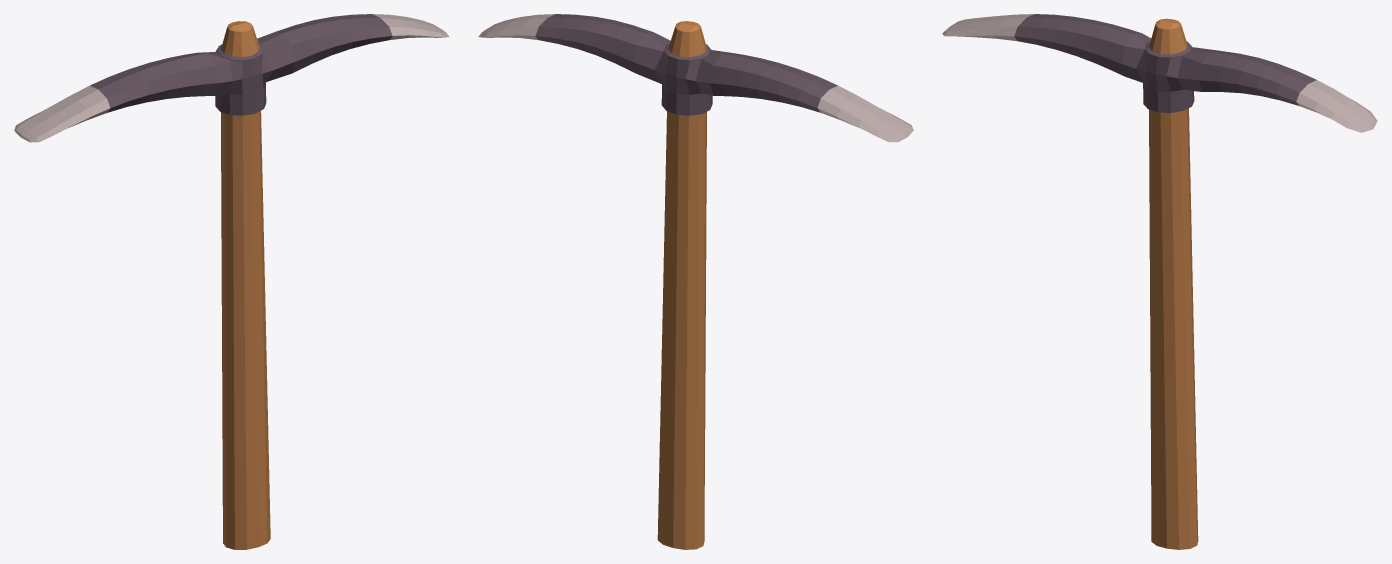
Rendered from pickaxe.fbx.
3 views of the same model, side by side, from view 1: azimuth 30°, elevation 25°; view 2: azimuth 150°, elevation 25°; view 3: azimuth 330°, elevation 25° (orthographic).
Parts seen in each view (by area): view 1: Cube; view 2: Cube; view 3: Cube.
Boxes of the visible parts, x1=… form: Cube: x1=14, y1=14, x2=449, y2=549; Cube: x1=478, y1=14, x2=913, y2=549; Cube: x1=942, y1=14, x2=1377, y2=549.
Size of the model in its own units: 375 by 441 by 38.9.
